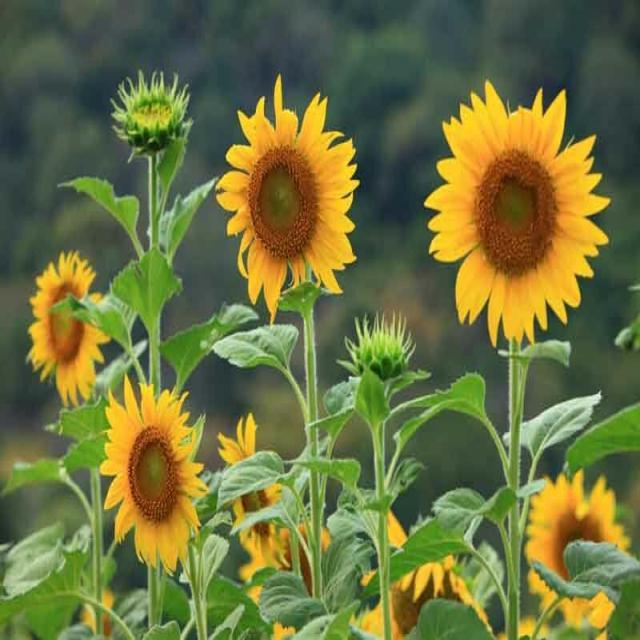sunflower: (423, 80, 611, 347), (214, 72, 360, 324), (99, 373, 208, 574), (358, 508, 491, 639), (524, 467, 630, 625), (26, 249, 110, 407), (216, 412, 290, 590), (248, 524, 334, 640), (80, 586, 114, 636)
